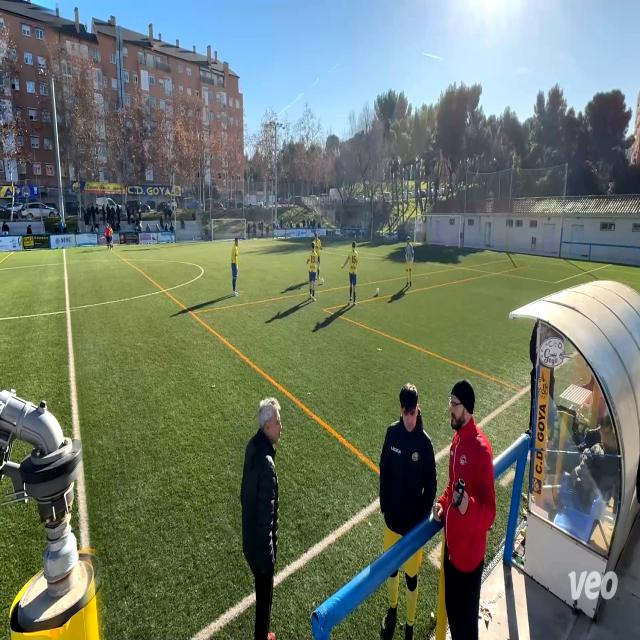bigarea_bottom_inner: (549, 274, 563, 291)
bigarea_bottom_outter: (605, 258, 616, 272)
halfcircle_bottom: (62, 302, 76, 321)
halfcircle_top: (62, 259, 69, 268)
smallarea_bottom_inner: (474, 250, 482, 260)
